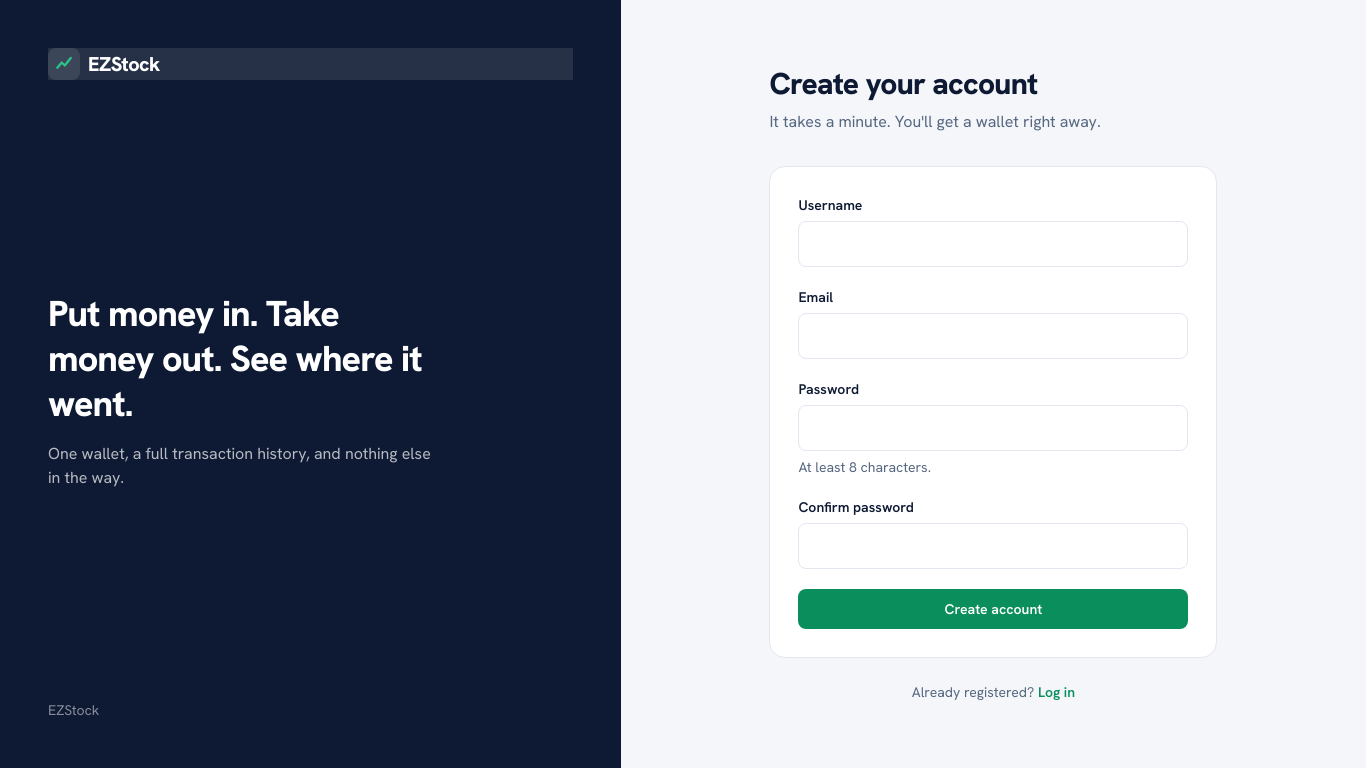
Test: registration › rejects mismatched passwords and short usernames
Type "ab" into the field labelled "Username" at {"x": 993, "y": 244}, box [798, 221, 1188, 267]
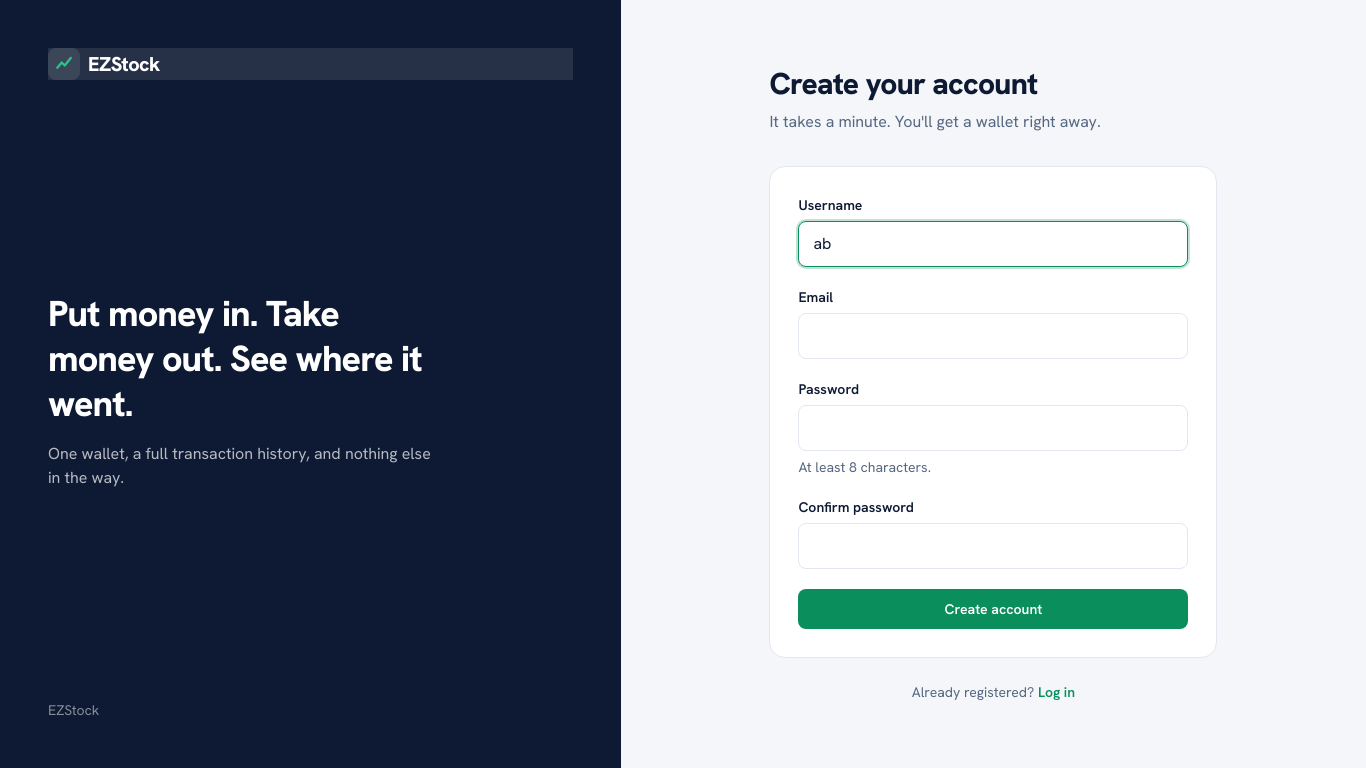
Type "not-an-email" into the field labelled "Email" at {"x": 993, "y": 336}, box [798, 313, 1188, 359]
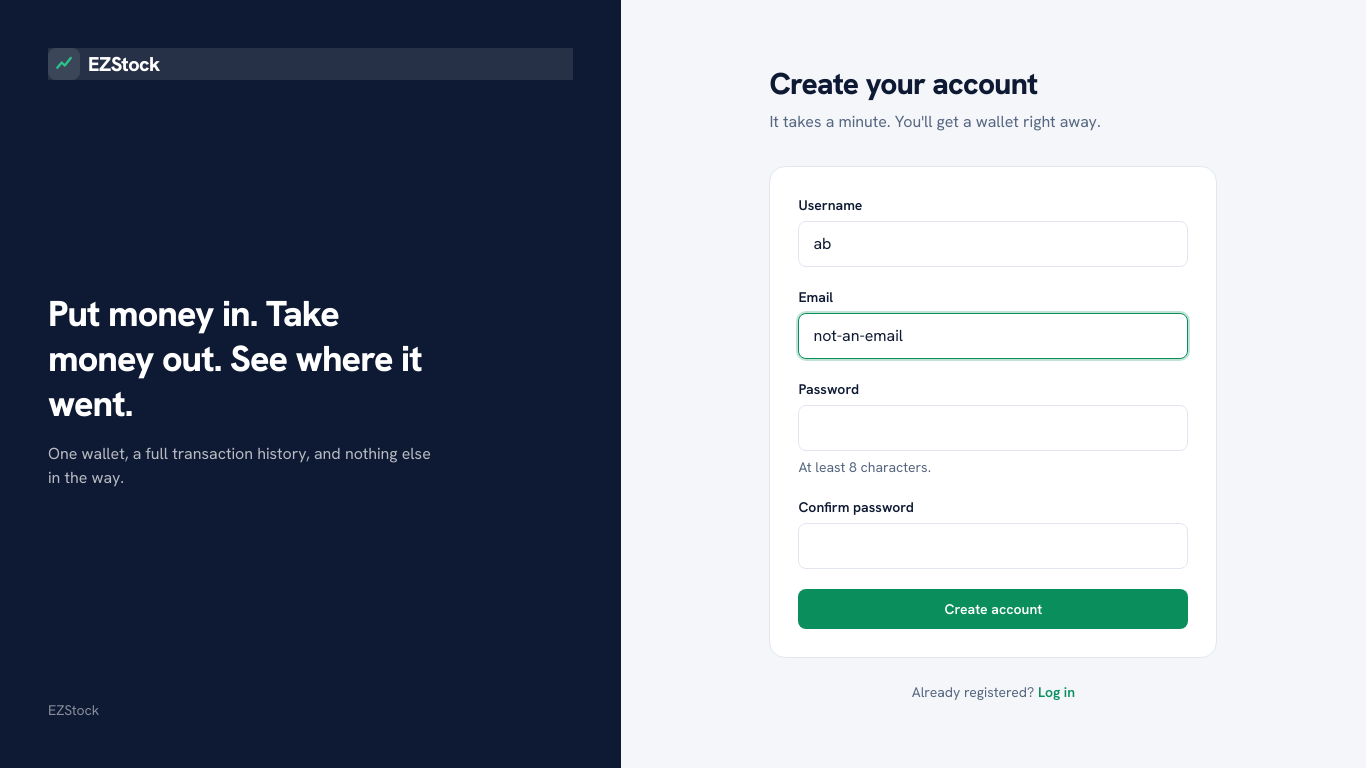
Type "password123" into the password field labelled "Password" at {"x": 993, "y": 428}, box [798, 405, 1188, 451]
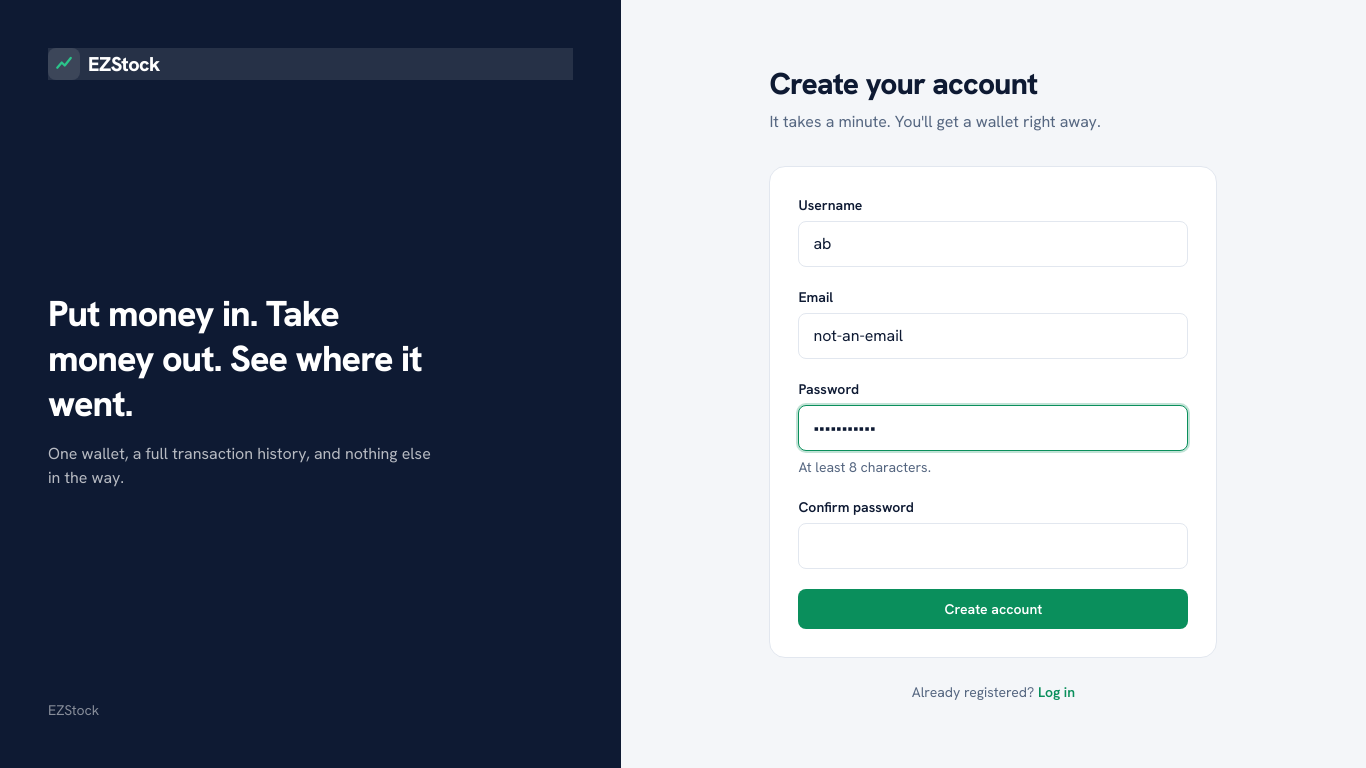
Type "different123" into the password field labelled "Confirm password" at {"x": 993, "y": 546}, box [798, 523, 1188, 569]
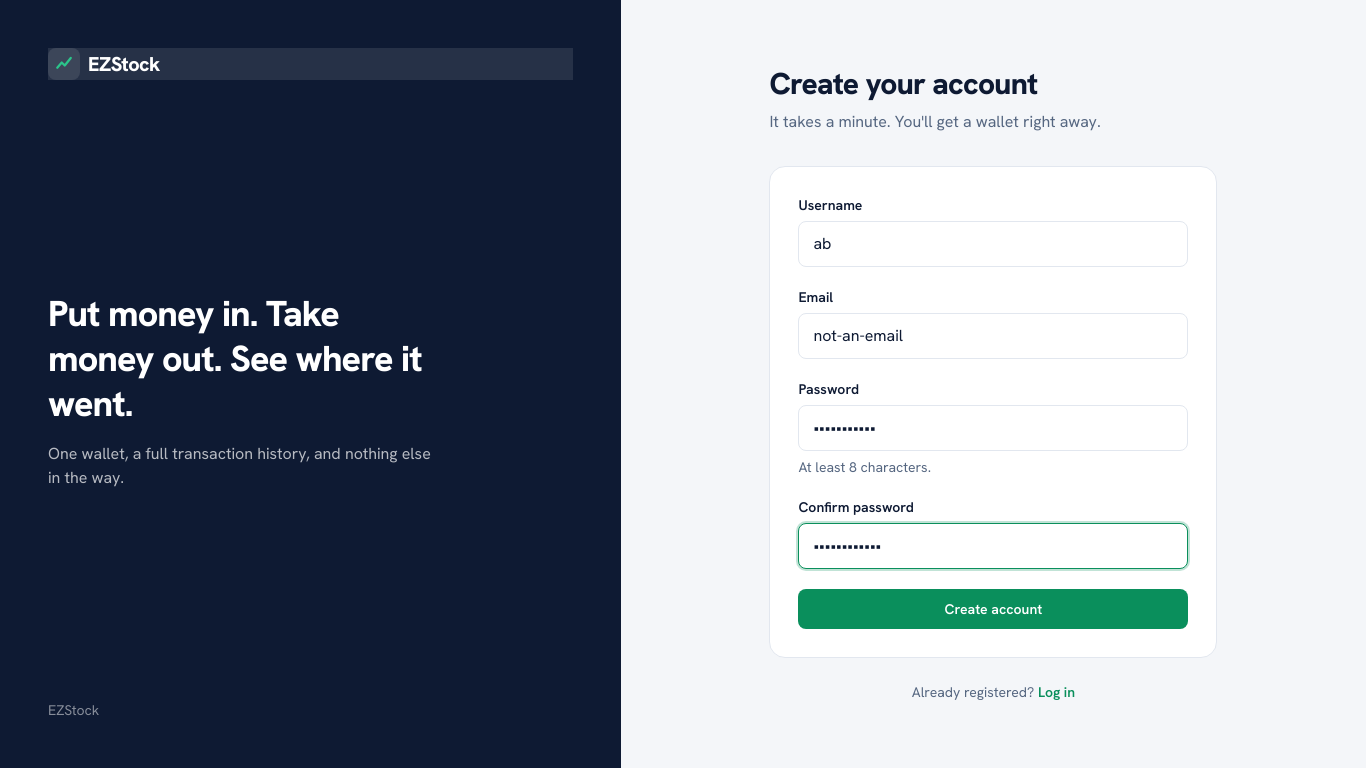
Click the button "Create account" at {"x": 993, "y": 609}, box [798, 589, 1188, 629]
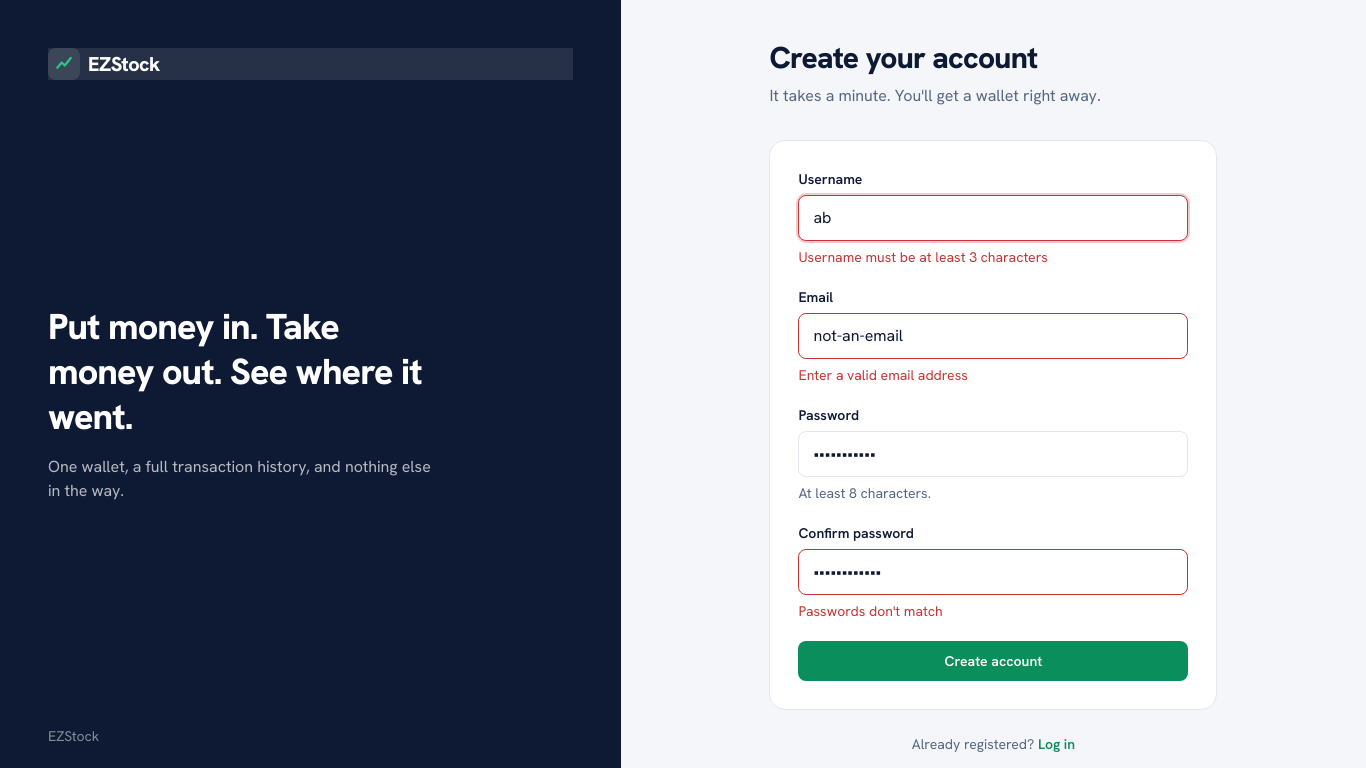
Check: the text "Username must be at least 3 characters" is shown, box [798, 248, 1048, 266]
Check: the text "Enter a valid email address" is shown, box [798, 366, 968, 384]
Check: the text "Passwords don't match" is shown, box [798, 602, 943, 620]
